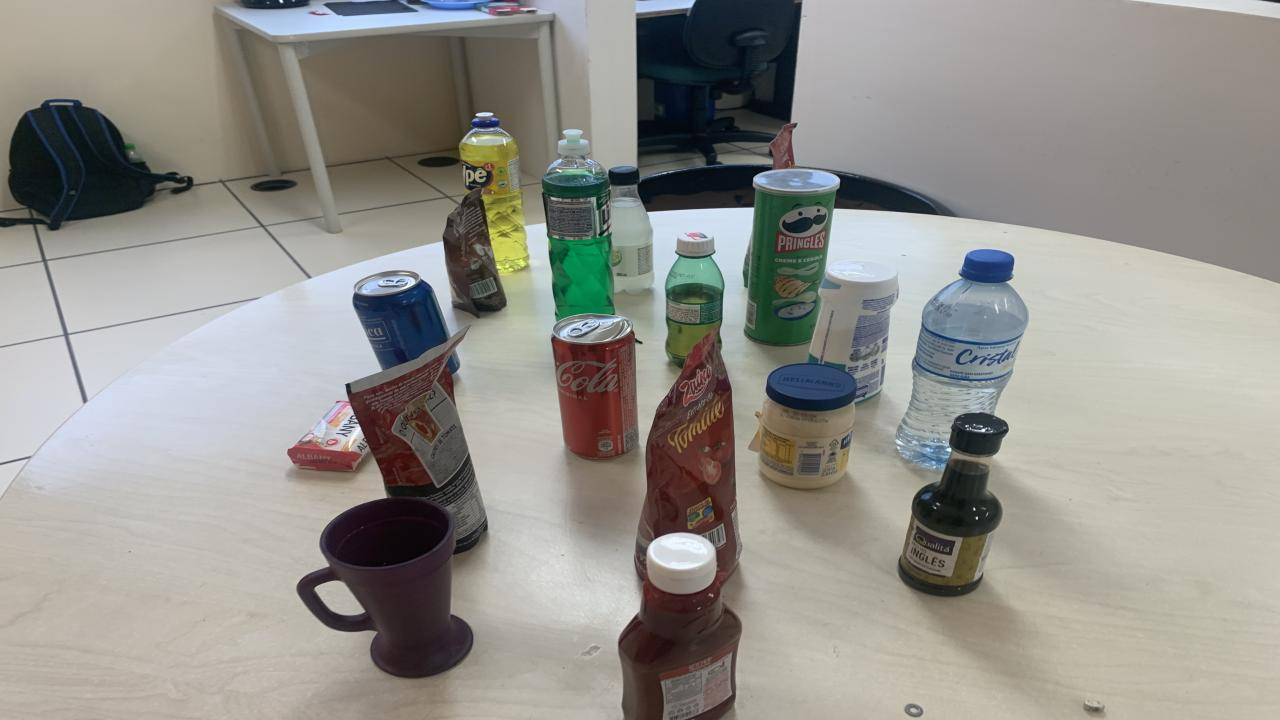Cleaner-Cleanup_Items: (808, 261, 898, 401)
Coffee-Pantry_Items: (442, 189, 508, 317)
Coke-Drinks: (550, 313, 638, 458)
Detergent-Cleanup_Items: (542, 129, 615, 319), (460, 112, 530, 272)
English_Sauce-Pantry_Items: (898, 412, 1008, 596)
Guarana-Drinks: (665, 232, 725, 366)
Ketchup-Pantry_Items: (618, 532, 742, 720)
Mayonnaise-Pantry_Items: (758, 364, 858, 489)
Pringles-Snacks: (745, 169, 840, 345)
Soap-Cleanup_Items: (288, 401, 370, 471)
Soda-Drinks: (608, 167, 655, 294)
Tomato_Sauce-Pantry_Items: (345, 328, 488, 553), (635, 332, 742, 583), (770, 124, 798, 169)
Tonic-Drinks: (352, 270, 450, 369)
Water_Bottle-Drinks: (895, 249, 1028, 469)
